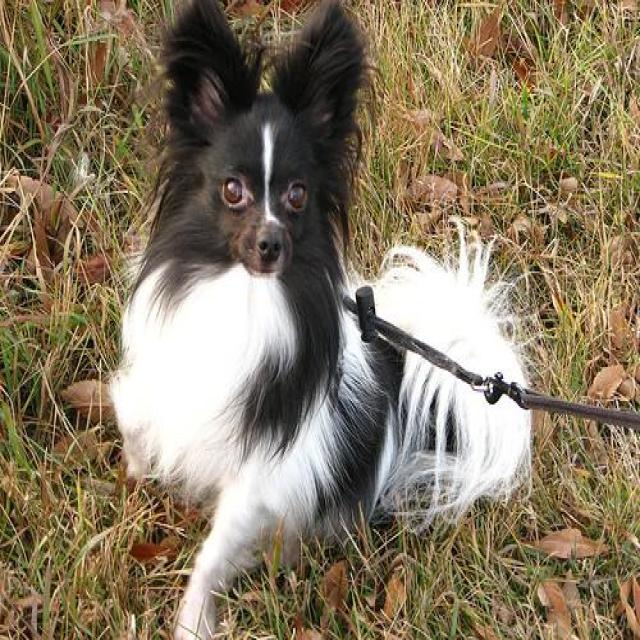papillon: (110, 0, 535, 637)
